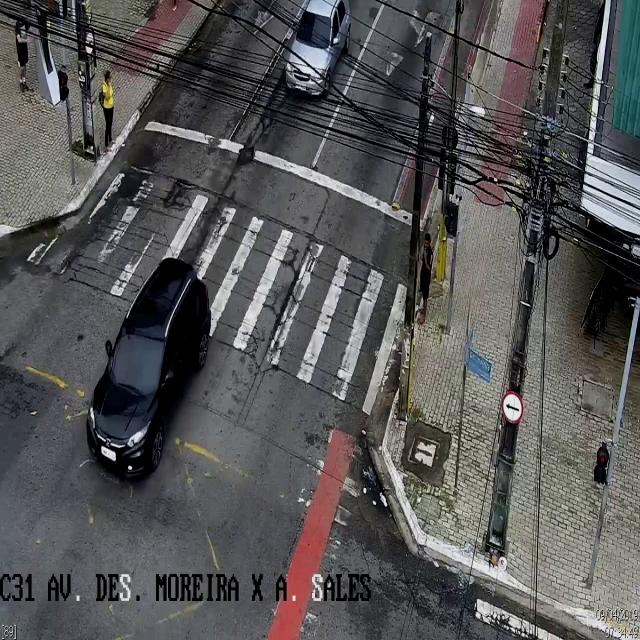Car: (86, 258, 210, 474), (288, 4, 352, 94)
